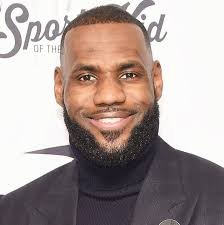b.y: (68, 107, 152, 163)
